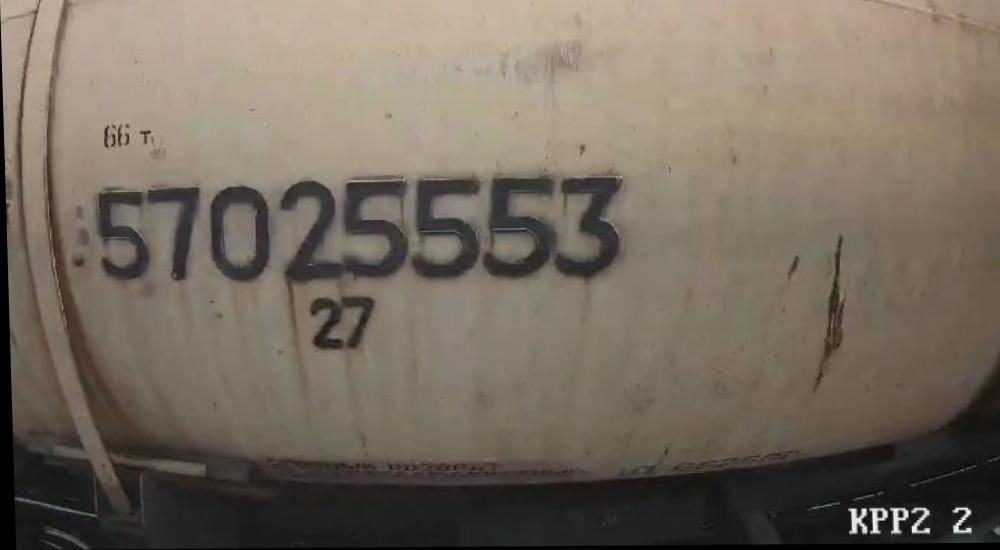Wagon-number: (90, 170, 629, 291)
